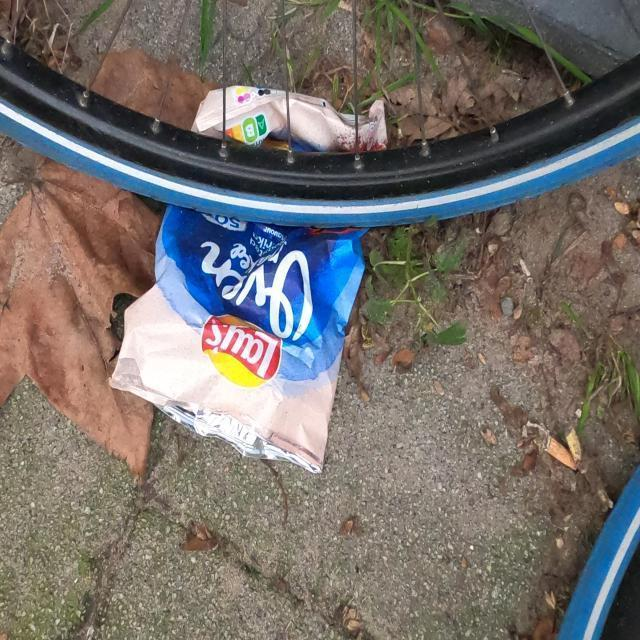Plastic: (106, 84, 389, 477)
